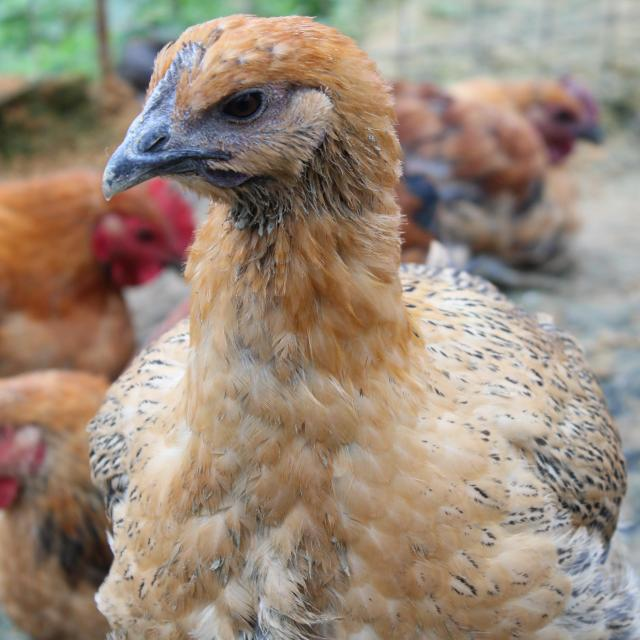hen: (89, 15, 632, 640)
